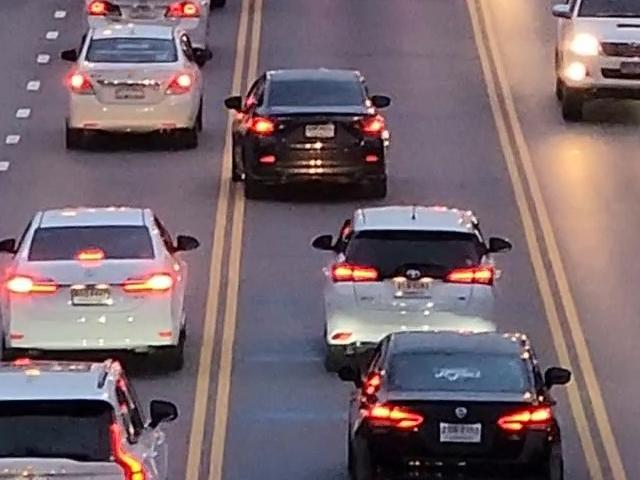car: (336, 328, 573, 480), (310, 202, 513, 368), (0, 211, 203, 364), (237, 65, 390, 205), (0, 375, 183, 480), (63, 32, 213, 152), (563, 0, 640, 135), (86, 0, 233, 48)
